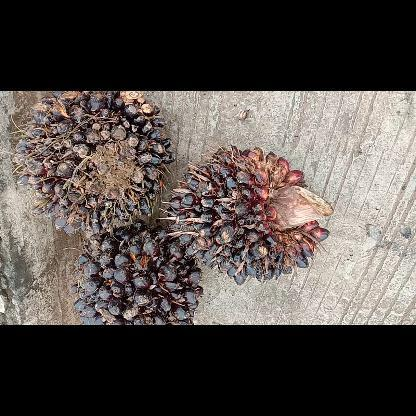TBS mentah: (166, 141, 334, 287), (13, 90, 176, 235), (69, 218, 203, 324)
